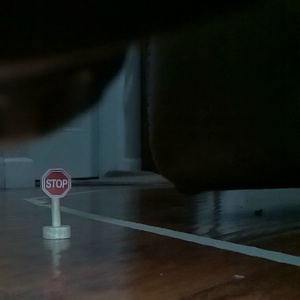stop sign: (38, 166, 75, 241)
